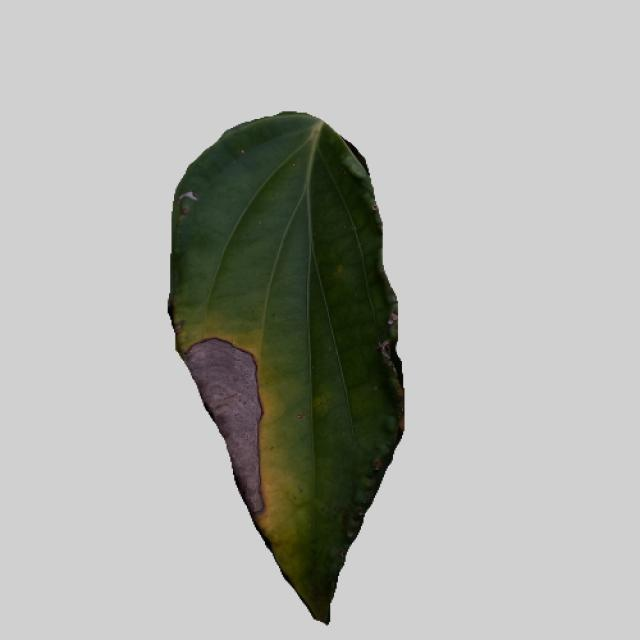leaf-blight: (154, 117, 407, 622)
